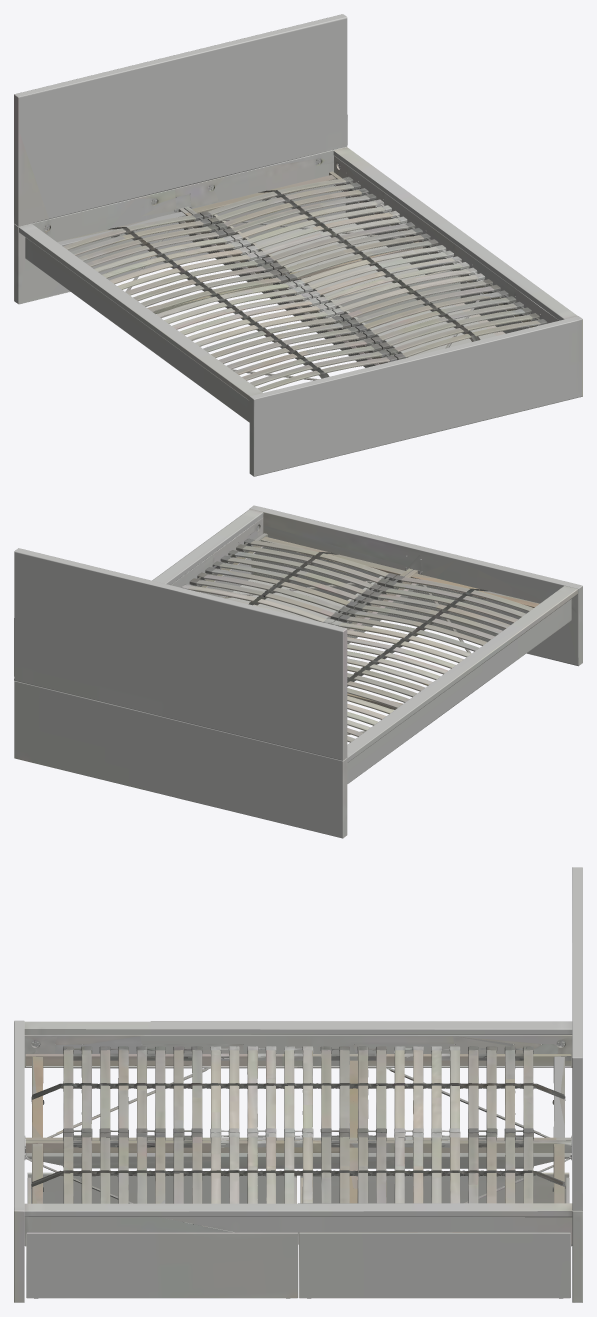
File: 18 - MALM - 高床框附2收納盒, 白色Lönset, 150x200 公分 IKEA 線上購物.glb
3 views of the same model, one above another, from view 1: azimuth 30°, elevation 25°; view 2: azimuth 150°, elevation 25°; view 3: azimuth 270°, elevation 25° (orthographic). The views are drawn at different scales.
Parts seen in each view (by area): view 1: base_bedsize; view 2: base_bedsize; view 3: base_bedsize.
Boxes of the visible parts, x1=… form: base_bedsize: x1=14, y1=14, x2=582, y2=476; base_bedsize: x1=14, y1=505, x2=582, y2=838; base_bedsize: x1=14, y1=867, x2=582, y2=1302.
Bounding box in the file's own units: 1.66 × 1 × 2.1.
1 material, 1 textured.
